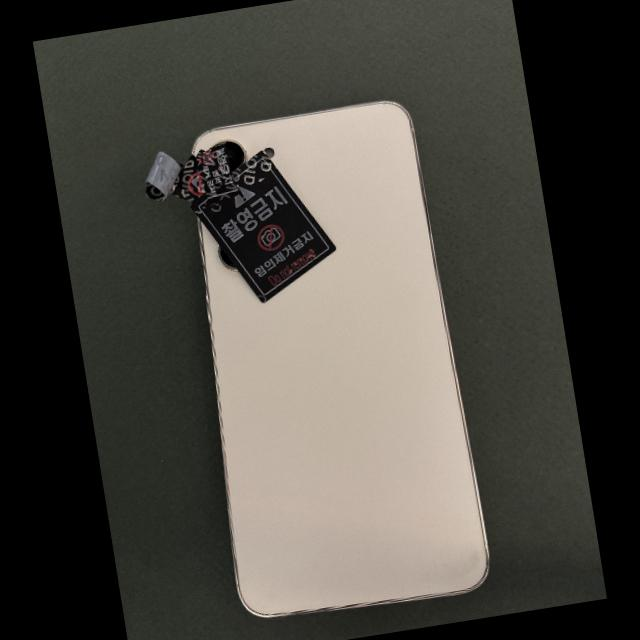lens: (214, 141, 245, 171), (219, 246, 237, 271)
phone: (191, 102, 489, 618)
sticker: (191, 150, 337, 304), (145, 152, 205, 203), (196, 144, 238, 203)
